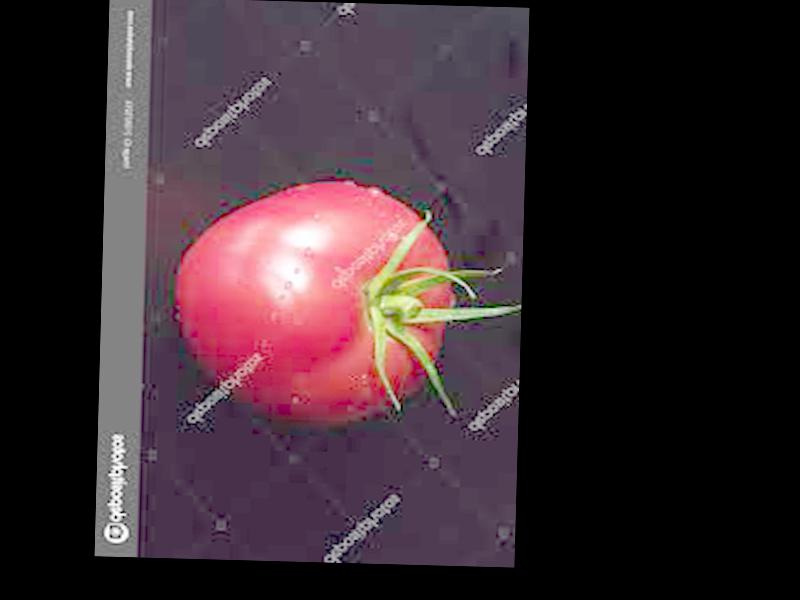Tomato: (173, 177, 455, 425)
